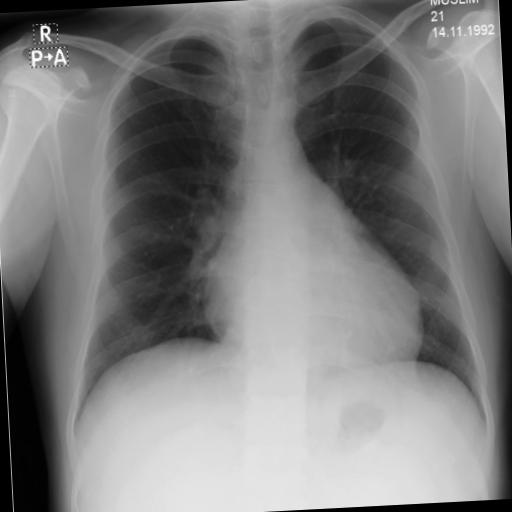kardiomegali: (48, 0, 493, 446)
